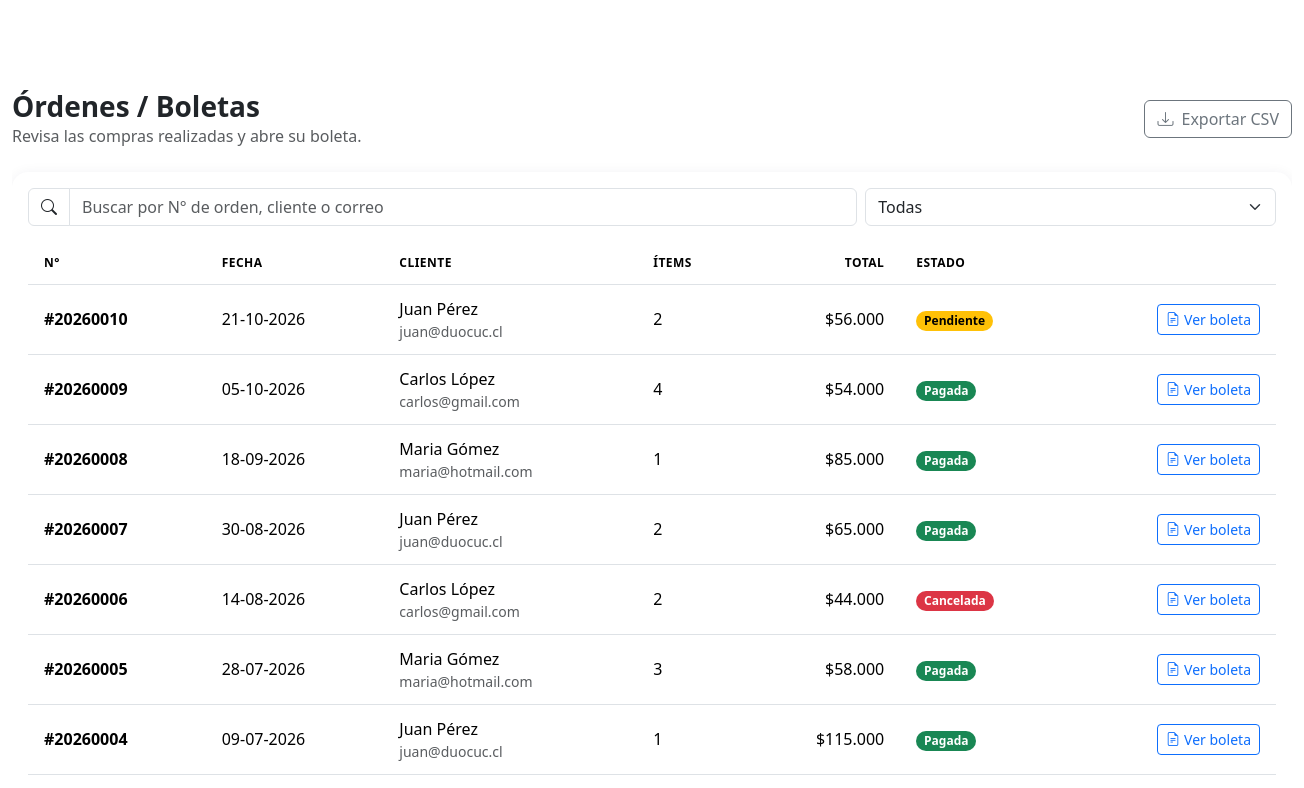
admin/views/OrdenesView › muestra un mensaje cuando nada coincide
Type "zzzz" into the search field named "Buscar órdenes" at (463, 207), box [69,188,857,226]
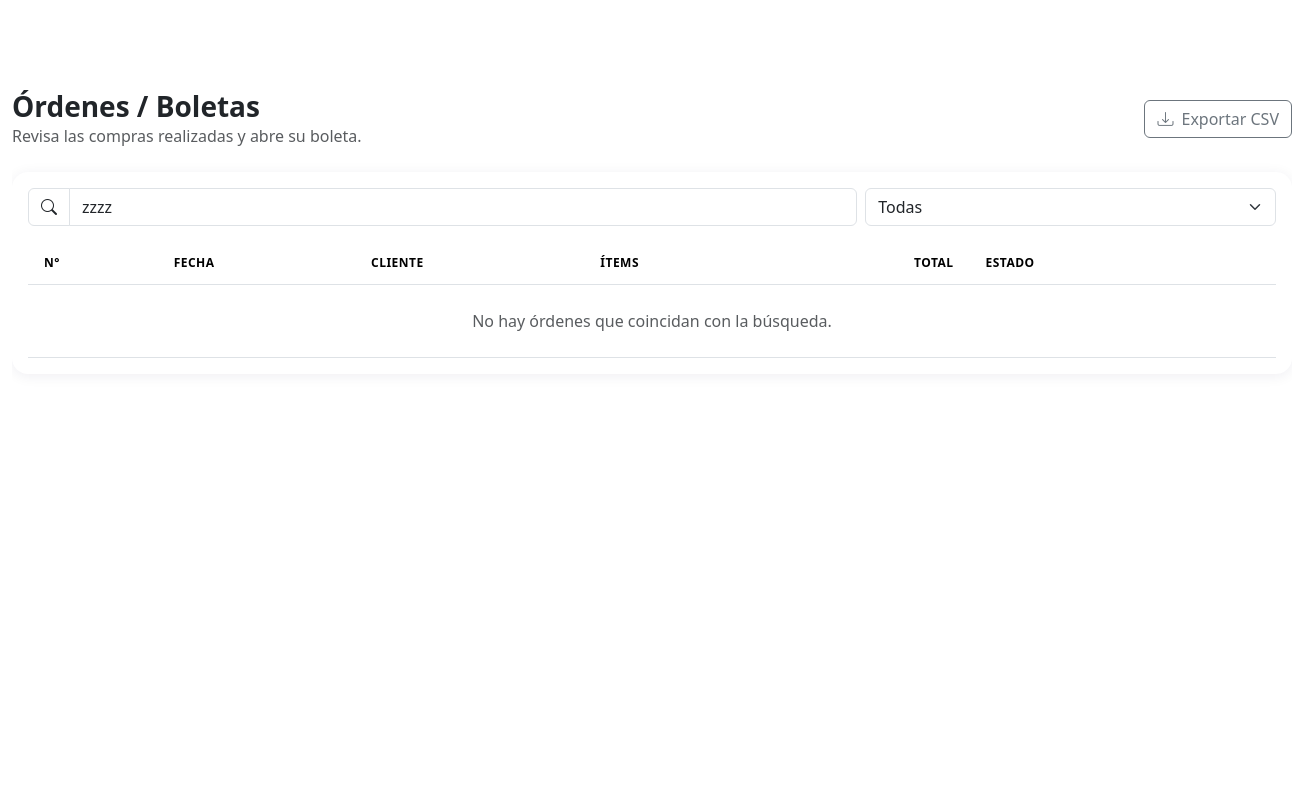
Now no buttons "Ver boleta" are shown
Now the text "No hay órdenes que coincidan con la búsqueda." is shown, box [28,284,1276,357]
